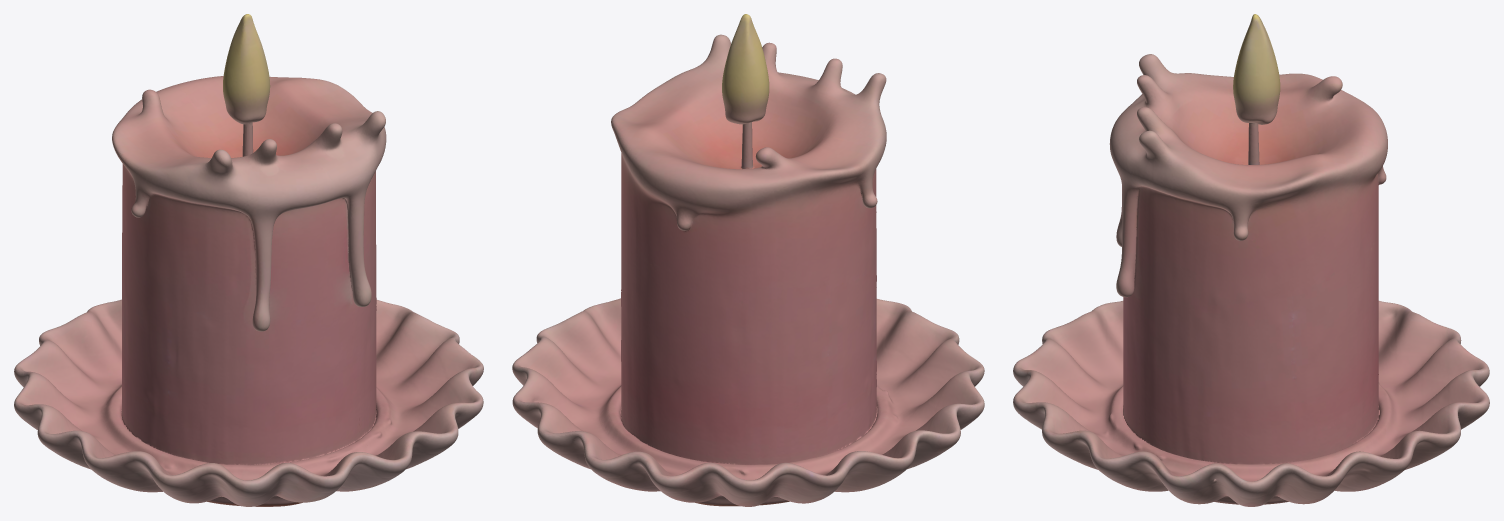
The model's file is detailed_realistic_model_floatingcandles_13.glb.
3 views of the same model, side by side, from view 1: azimuth 30°, elevation 25°; view 2: azimuth 150°, elevation 25°; view 3: azimuth 270°, elevation 25° (orthographic).
Parts seen in each view (by area): view 1: tripo_node_980d4b53-fbf5-435c-82fb-219475026467; view 2: tripo_node_980d4b53-fbf5-435c-82fb-219475026467; view 3: tripo_node_980d4b53-fbf5-435c-82fb-219475026467.
Boxes of the visible parts, x1=… form: tripo_node_980d4b53-fbf5-435c-82fb-219475026467: x1=14, y1=14, x2=483, y2=506; tripo_node_980d4b53-fbf5-435c-82fb-219475026467: x1=512, y1=14, x2=984, y2=506; tripo_node_980d4b53-fbf5-435c-82fb-219475026467: x1=1013, y1=14, x2=1489, y2=506.
Size of the model in its own units: 0.9457 by 1 by 0.9347.
Materials: 1 (1 with a texture image).
